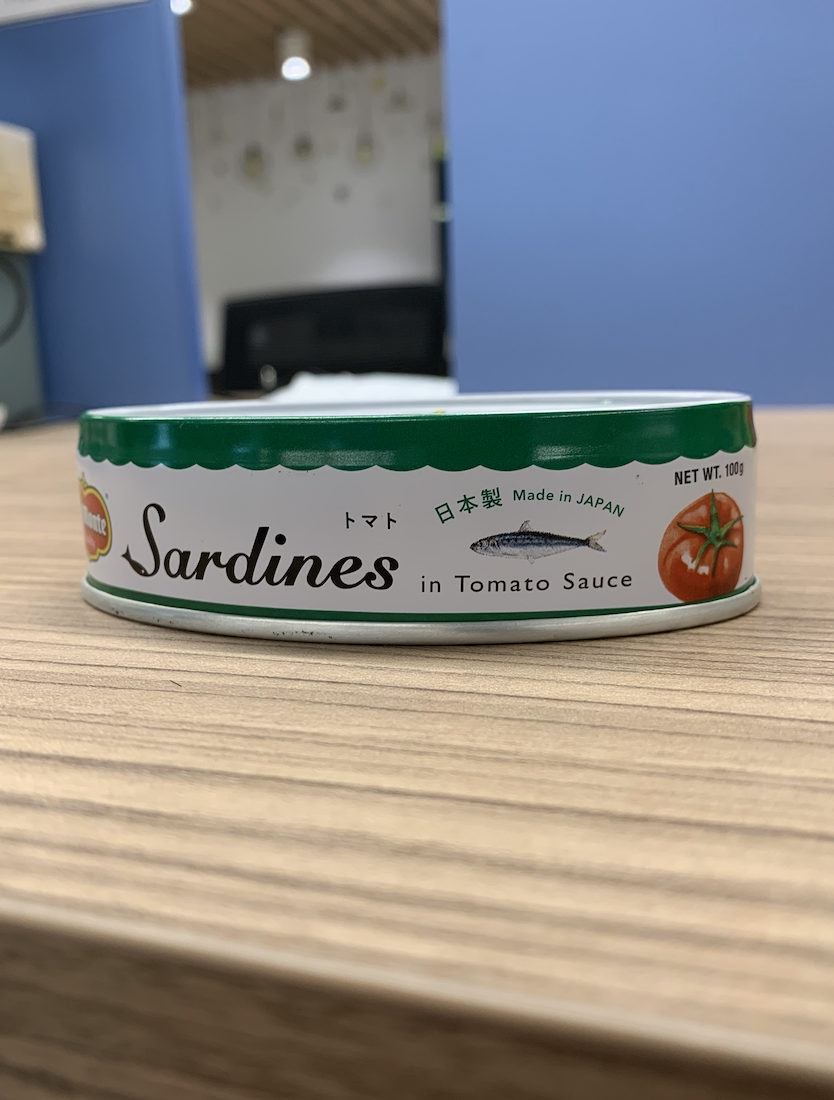sardines_150g: (86, 422, 752, 603)
